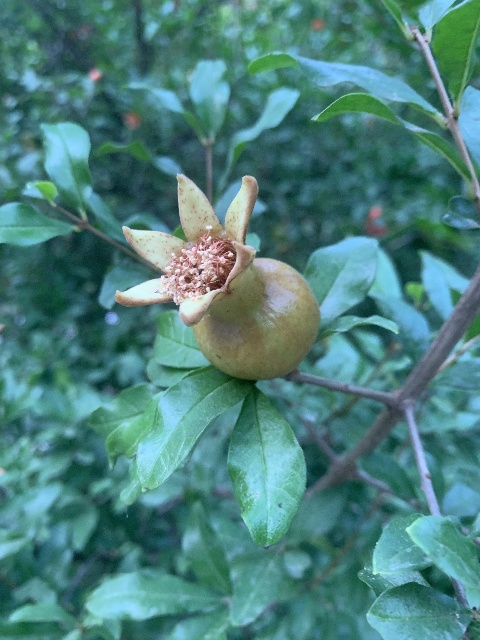early-fruit: (114, 173, 319, 380)
